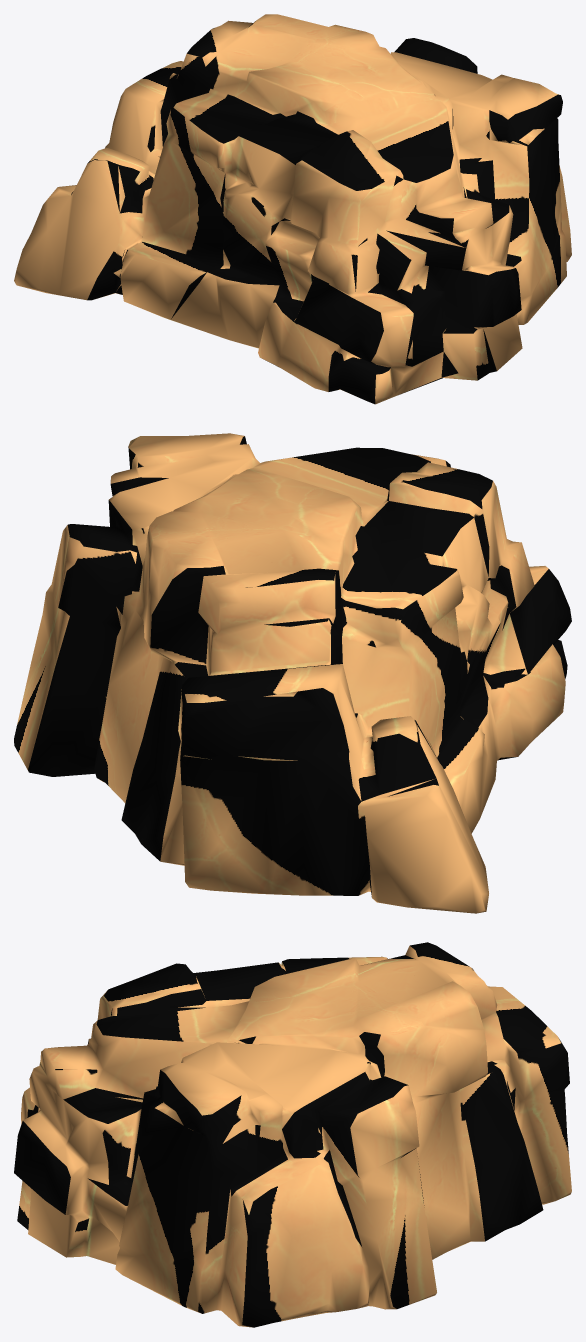
The model's file is rock_cliff.fbx.
The picture shows the model from 3 angles, top to bottom: view 1: azimuth 30°, elevation 25°; view 2: azimuth 150°, elevation 25°; view 3: azimuth 270°, elevation 25°; orthographic projection. The views are drawn at different scales.
Parts seen in each view (by area): view 1: rock_cliff; view 2: rock_cliff; view 3: rock_cliff.
Part boxes in pixels (bbox=[...]): rock_cliff: bbox=[14, 14, 571, 404]; rock_cliff: bbox=[14, 433, 571, 913]; rock_cliff: bbox=[14, 942, 571, 1327].
Size of the model in its own units: 3032 by 1409 by 3065.
